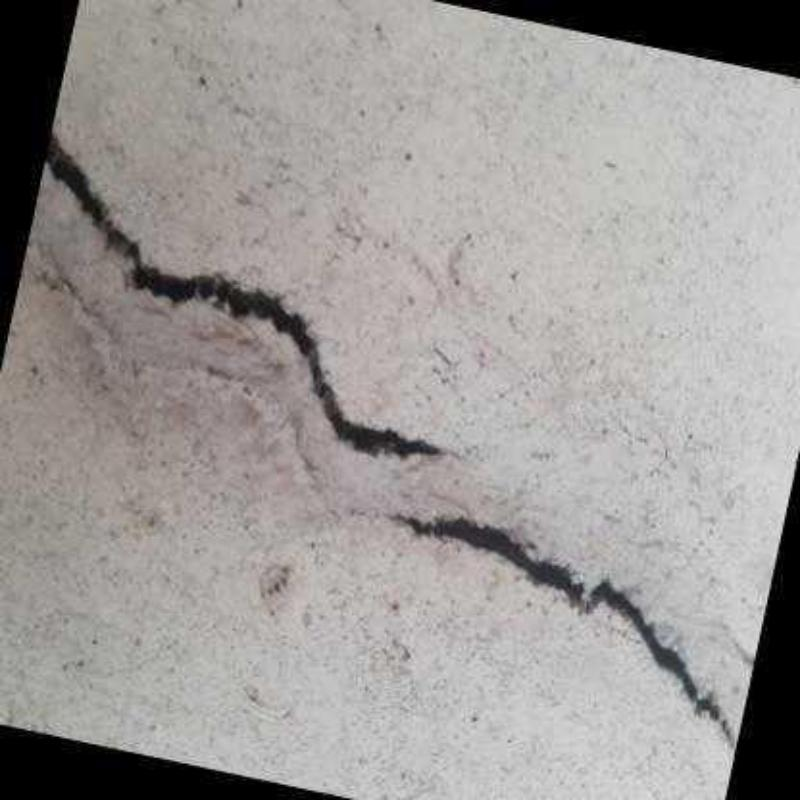pothole: (40, 121, 439, 467), (393, 505, 739, 752)
